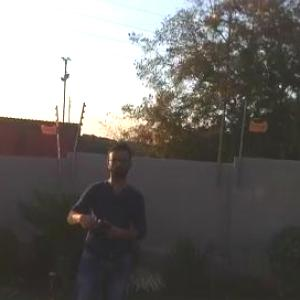follow: (62, 133, 154, 299)
